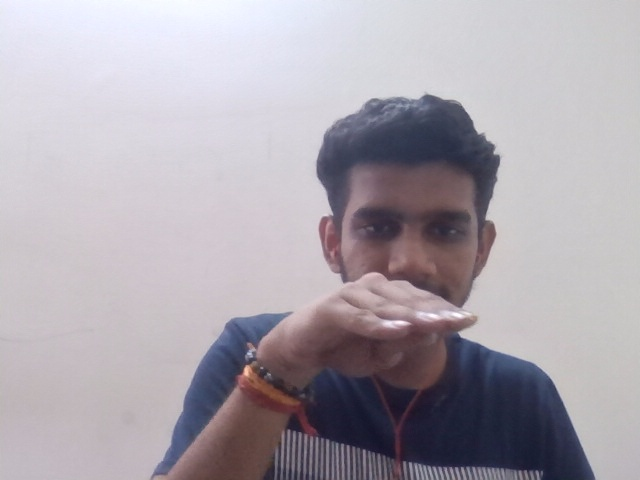no: (232, 268, 491, 392)
